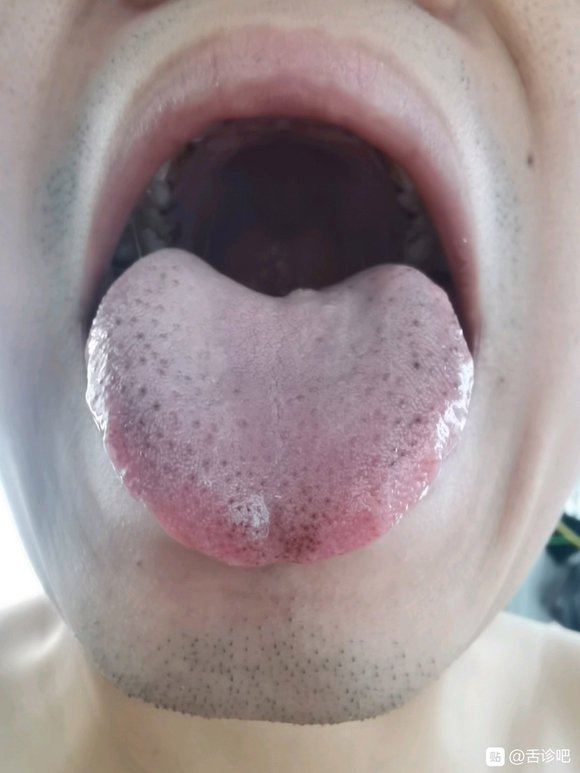baitaishe: (88, 246, 473, 569)
hongdianshe: (150, 399, 162, 415), (287, 523, 297, 535), (412, 415, 423, 425)
